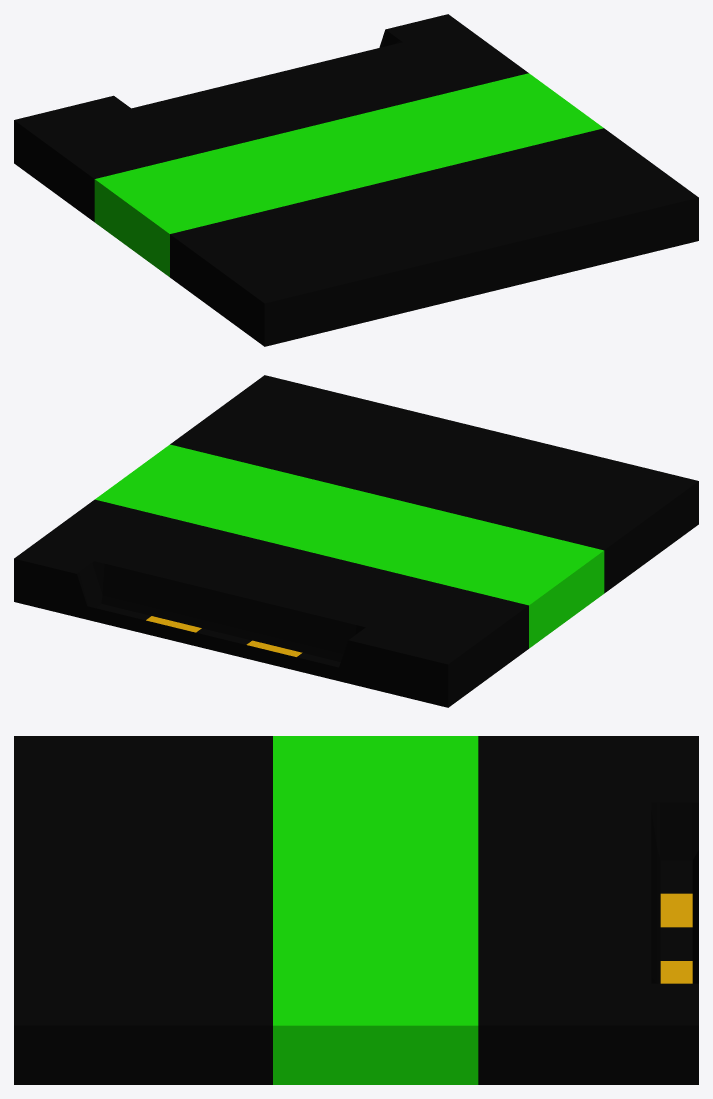
The model's file is hdd sdd_Scene.fbx.
3 views of the same model, one above another, from view 1: azimuth 30°, elevation 25°; view 2: azimuth 150°, elevation 25°; view 3: azimuth 270°, elevation 25° (orthographic). The views are drawn at different scales.
Visible parts, largest first — view 1: Cube.001; view 2: Cube.001; view 3: Cube.001.
Boxes of the visible parts, x1,y1,x2,y2 form: Cube.001: [14, 14, 698, 346]; Cube.001: [14, 375, 698, 707]; Cube.001: [14, 736, 698, 1084].
Size of the model in its own units: 76.33 by 7.28 by 76.33.
